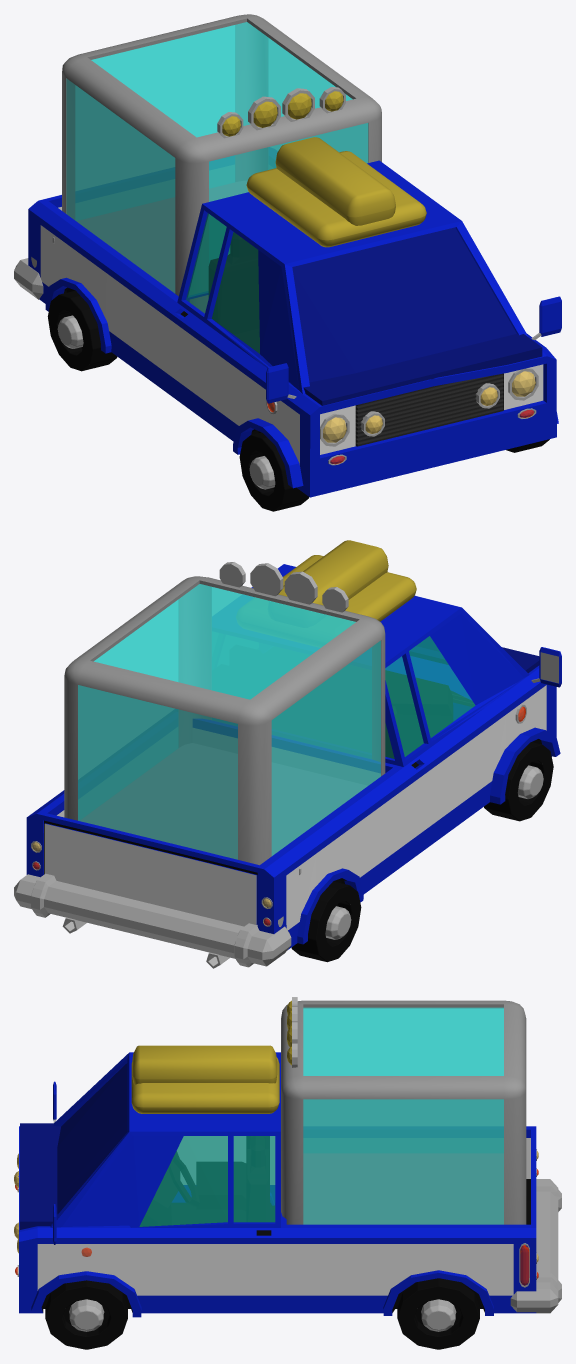
File: otonom2car.FBX
3 renders of one model, top to bottom at view 1: azimuth 30°, elevation 25°; view 2: azimuth 150°, elevation 25°; view 3: azimuth 270°, elevation 25°, orthographic. The views are drawn at different scales.
Parts seen in each view (by area): view 1: PickupTruc, Box001, ChamferBox001, lights, Box002, ChamferBox002, grill, Interieur, tire_r_b, tire_r_f, mirrors, bumper_b; view 2: Box001, PickupTruc, bumper_b, lights, tire_r_b, Interieur, ChamferBox002, tire_r_f, ChamferBox001, mirrors, Box002; view 3: PickupTruc, Box001, Interieur, ChamferBox002, tire_l_b, tire_l_f, ChamferBox001, Box002, bumper_b, lights.
Part boxes in pixels (x1=…): PickupTruc: x1=28, y1=160, x2=558, y2=497; Box001: x1=62, y1=14, x2=381, y2=313; ChamferBox001: x1=246, y1=151, x2=426, y2=247; lights: x1=31, y1=87, x2=538, y2=465; Box002: x1=303, y1=334, x2=542, y2=405; ChamferBox002: x1=275, y1=137, x2=395, y2=225; grill: x1=355, y1=373, x2=503, y2=446; Interieur: x1=209, y1=232, x2=259, y2=353; tire_r_b: x1=47, y1=290, x2=117, y2=371; tire_r_f: x1=239, y1=432, x2=308, y2=511; mirrors: x1=266, y1=296, x2=561, y2=403; bumper_b: x1=14, y1=258, x2=43, y2=299; Box001: x1=64, y1=576, x2=385, y2=865; PickupTruc: x1=26, y1=564, x2=560, y2=949; bumper_b: x1=14, y1=873, x2=291, y2=967; lights: x1=31, y1=562, x2=526, y2=926; tire_r_b: x1=291, y1=881, x2=361, y2=962; Interieur: x1=385, y1=670, x2=452, y2=758; ChamferBox002: x1=278, y1=540, x2=388, y2=605; tire_r_f: x1=484, y1=742, x2=553, y2=821; ChamferBox001: x1=283, y1=555, x2=416, y2=621; mirrors: x1=531, y1=647, x2=561, y2=687; Box002: x1=409, y1=646, x2=539, y2=673; PickupTruc: x1=18, y1=1052, x2=536, y2=1317; Box001: x1=281, y1=1000, x2=526, y2=1224; Interieur: x1=139, y1=1136, x2=269, y2=1226; ChamferBox002: x1=132, y1=1045, x2=277, y2=1084; tire_l_b: x1=397, y1=1278, x2=479, y2=1349; tire_l_f: x1=45, y1=1280, x2=127, y2=1349; ChamferBox001: x1=131, y1=1057, x2=279, y2=1113; Box002: x1=20, y1=1123, x2=60, y2=1229; bumper_b: x1=510, y1=1179, x2=561, y2=1313; lights: x1=14, y1=997, x2=538, y2=1287.
Size of the model in its own units: 30.05 by 29.1 by 52.65.
